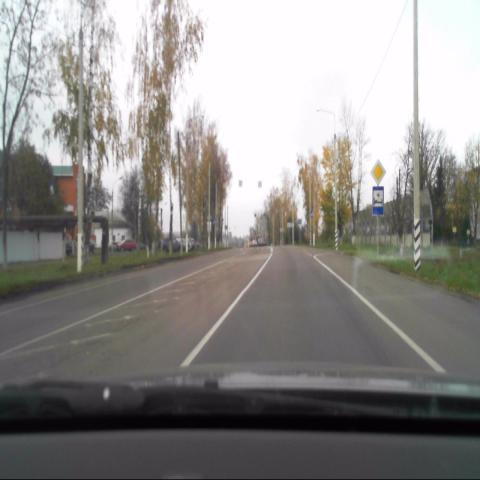7_2: (372, 186, 385, 215)
